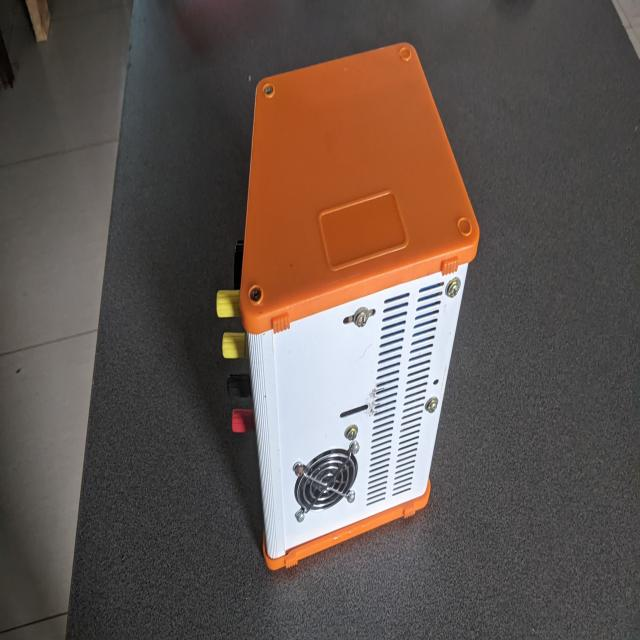AC and DC Power Supply 24V: (212, 17, 477, 575)
